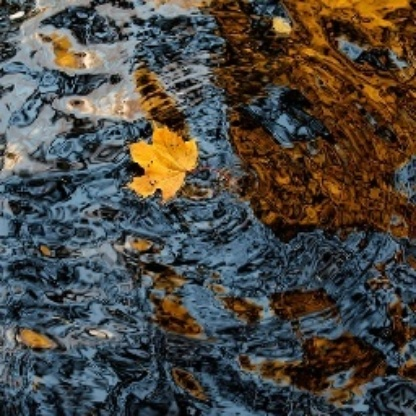leaf: (123, 123, 218, 200)
